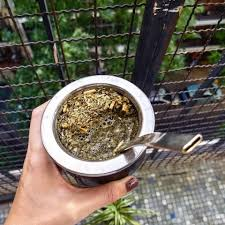guampa: (22, 64, 212, 212)
